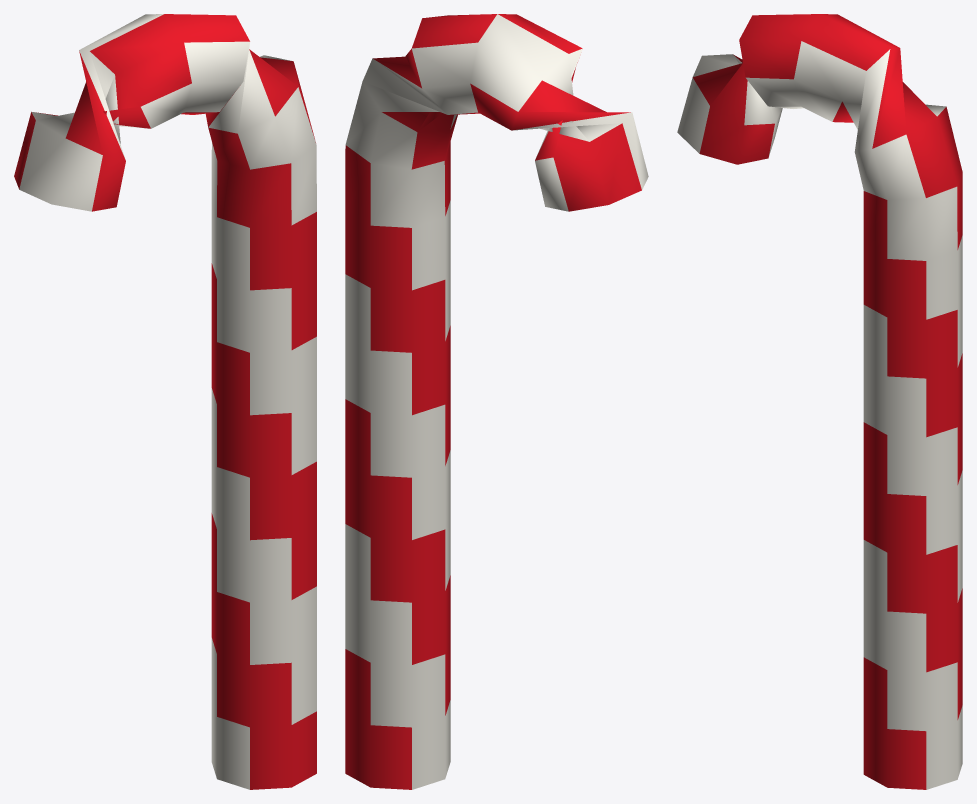
File: Polkagris.fbx
3 views of the same model, side by side, from view 1: azimuth 30°, elevation 25°; view 2: azimuth 150°, elevation 25°; view 3: azimuth 330°, elevation 25° (orthographic). The views are drawn at different scales.
Parts seen in each view (by area): view 1: Polkagris; view 2: Polkagris; view 3: Polkagris.
Boxes of the visible parts, <box> form: Polkagris: <box>14,14,316,789</box>; Polkagris: <box>345,14,648,789</box>; Polkagris: <box>677,14,962,789</box>.
Bounding box in the file's own units: 0.0587 × 0.1495 × 0.019.
